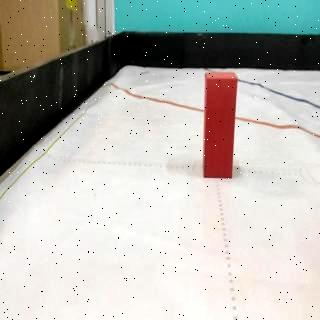redbox: (203, 73, 238, 179)
